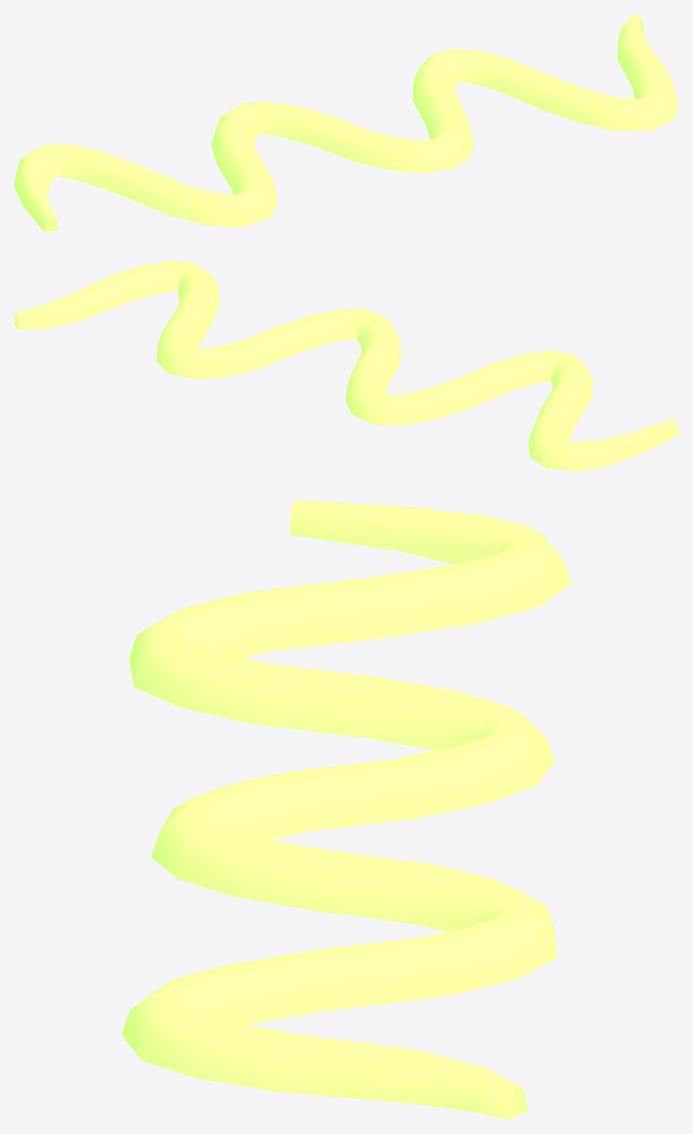
The model's file is Food_GlowSauce_Ribbon.fbx.
The picture shows the model from 3 angles, top to bottom: view 1: azimuth 30°, elevation 25°; view 2: azimuth 150°, elevation 25°; view 3: azimuth 270°, elevation 25°; orthographic projection. The views are drawn at different scales.
Parts seen in each view (by area): view 1: Sauce; view 2: Sauce; view 3: Sauce.
Part boxes in pixels (x1,y1,x2,y2): Sauce: [14, 14, 678, 231]; Sauce: [14, 260, 678, 471]; Sauce: [121, 500, 571, 1119].
Bounding box in the file's own units: 203 × 6.94 × 64.81.
